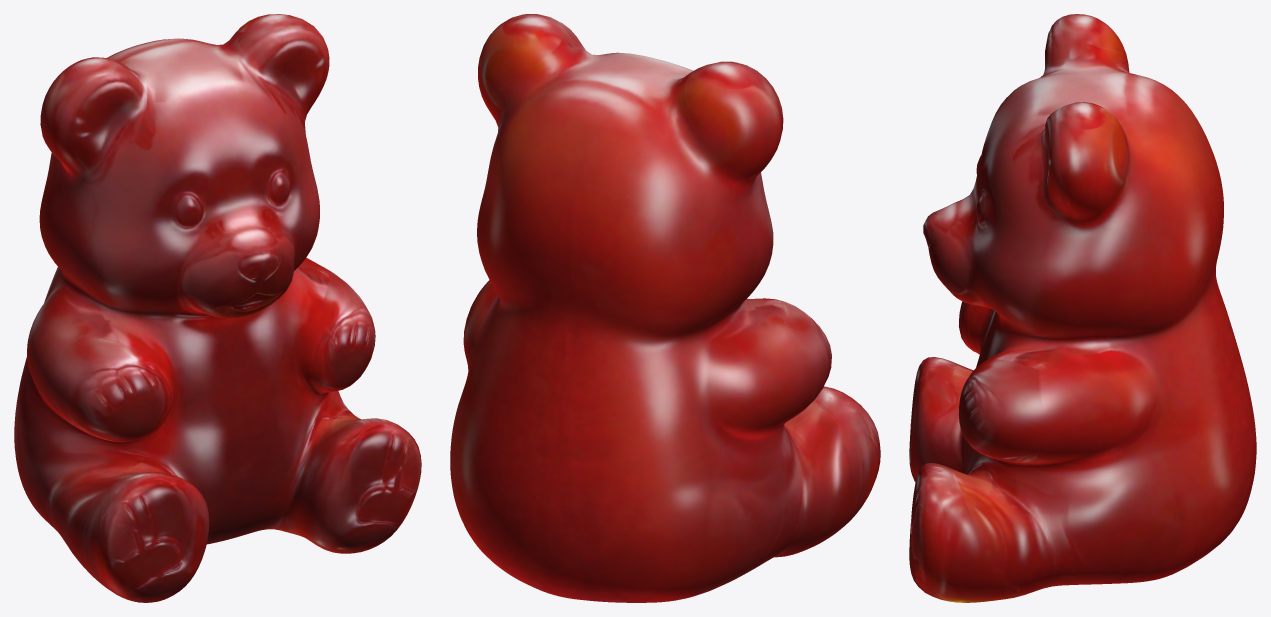
File: gummybear.fbx
3 renders of one model, left to right at view 1: azimuth 30°, elevation 25°; view 2: azimuth 150°, elevation 25°; view 3: azimuth 270°, elevation 25°, orthographic. The views are drawn at different scales.
Visible parts, largest first — view 1: Mesh1_Mesh1.050; view 2: Mesh1_Mesh1.050; view 3: Mesh1_Mesh1.050.
Part boxes in pixels (box(x1,y1,x2,y2)): Mesh1_Mesh1.050: box(14, 14, 421, 602); Mesh1_Mesh1.050: box(450, 14, 880, 602); Mesh1_Mesh1.050: box(909, 14, 1256, 602).
Bounding box in the file's own units: 137 × 200 × 129.
1 material, 1 textured.
